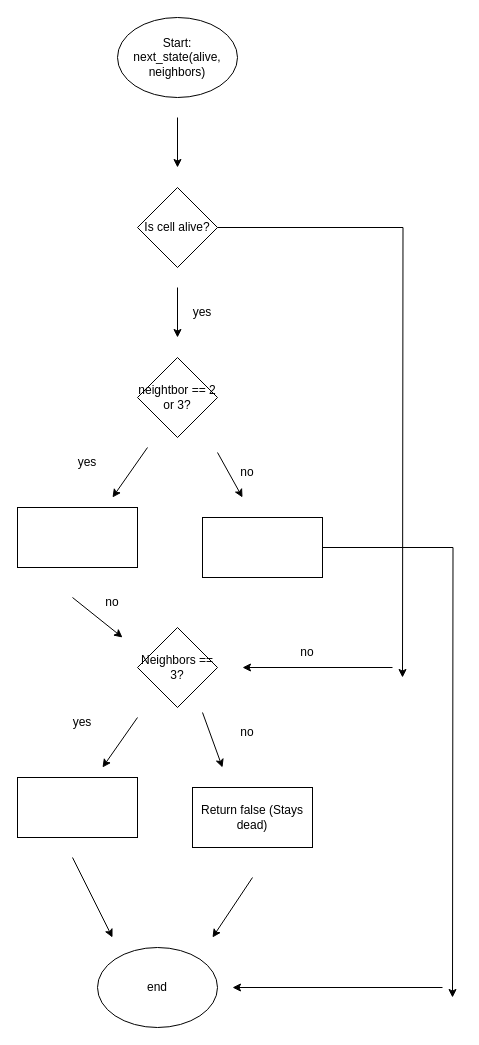
Some shapes in this 479 by 1045 pixel diagram are drawn without their labels. Each missing label, with the centre of its shape:
return false (Under/Overpopulation): the point at 262,547
Return true (Reproduction): the point at 77,807
return true (Survival): the point at 77,537
